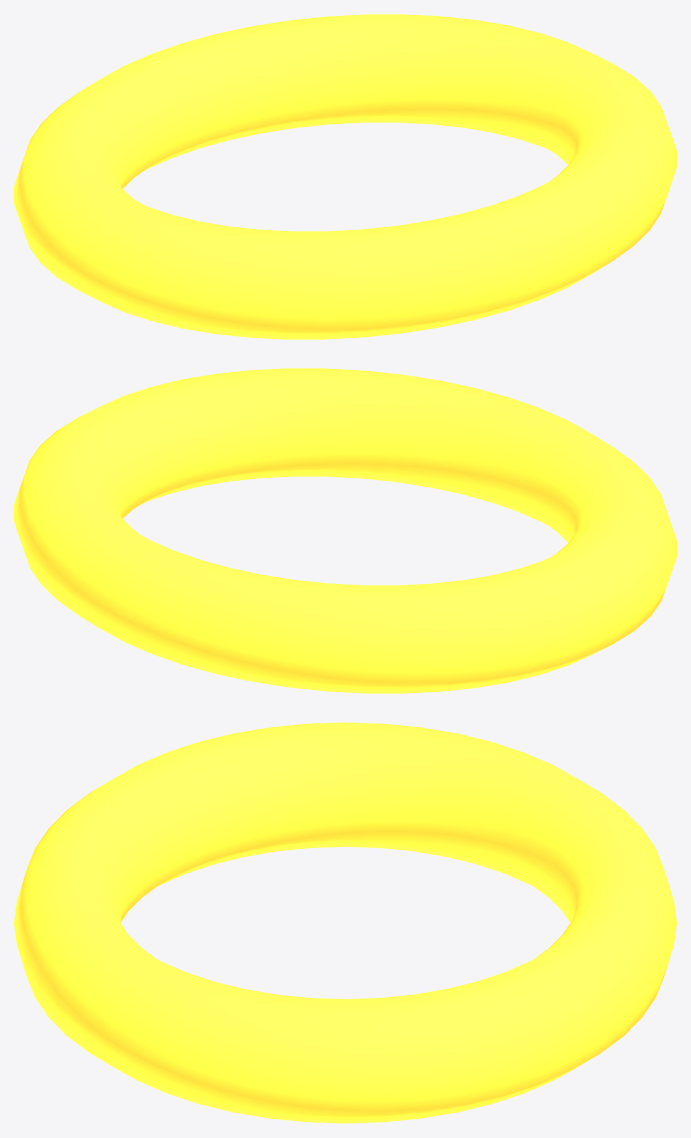
The model's file is halo.glb.
3 views of the same model, one above another, from view 1: azimuth 30°, elevation 25°; view 2: azimuth 150°, elevation 25°; view 3: azimuth 270°, elevation 25° (orthographic). The views are drawn at different scales.
Parts seen in each view (by area): view 1: halo; view 2: halo; view 3: halo.
Boxes of the visible parts, box(x1,y1,x2,y2) form: halo: box(14, 14, 676, 339); halo: box(14, 368, 676, 693); halo: box(14, 722, 676, 1123).
Bounding box in the file's own units: 0.56 × 0.0856 × 0.476.
